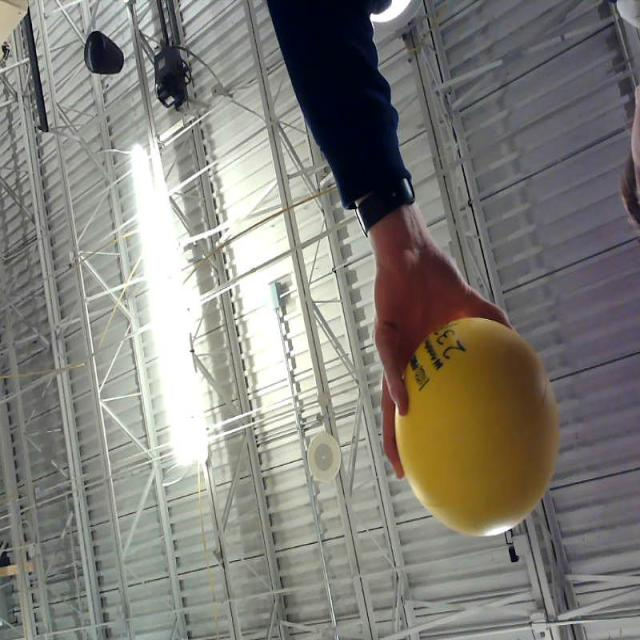Fuel: (394, 316, 558, 536)
